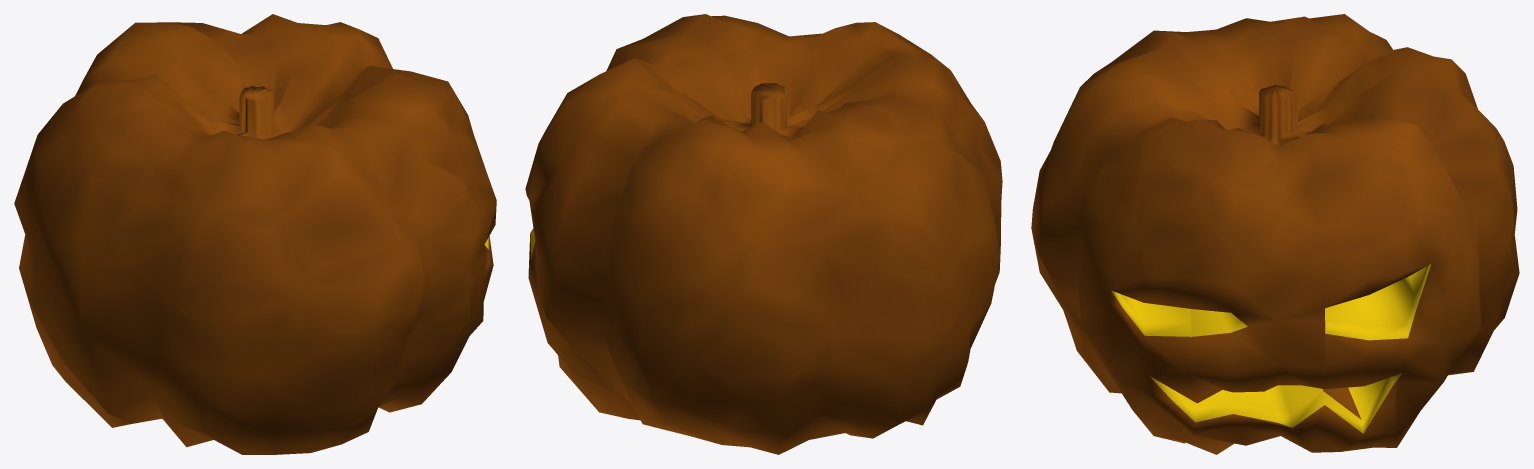
The model's file is おばけかぼちゃ.fbx.
The picture shows the model from 3 angles, left to right: view 1: azimuth 30°, elevation 25°; view 2: azimuth 150°, elevation 25°; view 3: azimuth 270°, elevation 25°; orthographic projection.
Parts seen in each view (by area): view 1: 球.001; view 2: 球.001; view 3: 球.001.
Boxes of the visible parts, bbox=[...] form: 球.001: bbox=[14, 14, 496, 454]; 球.001: bbox=[525, 14, 1002, 454]; 球.001: bbox=[1031, 14, 1519, 454].
Bounding box in the file's own units: 195 × 152 × 202.
